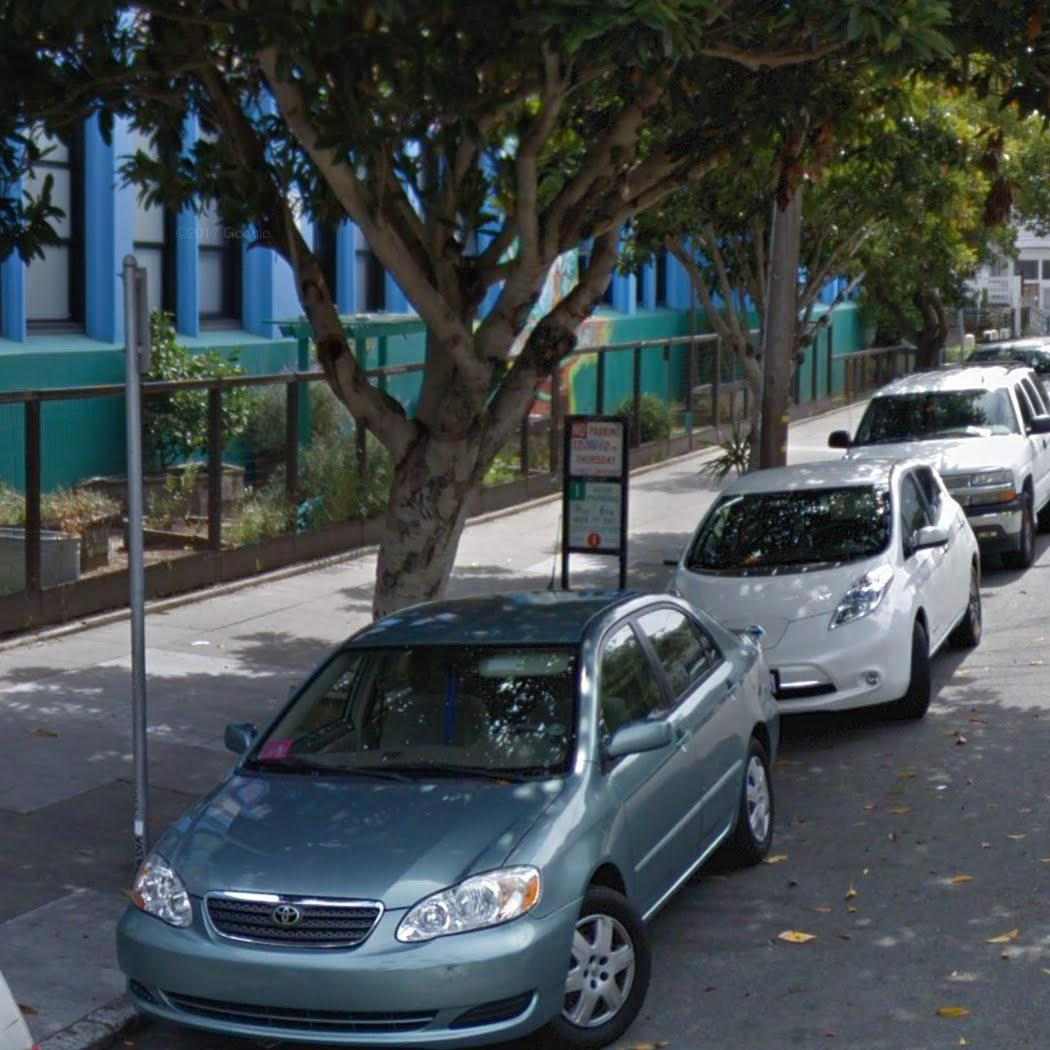1 Hour Parking: (562, 479, 628, 555)
No Parking: (565, 414, 627, 479)
